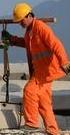boots: (18, 123, 40, 129)
gloves: (0, 28, 10, 39), (0, 40, 7, 48)
hard-hat: (12, 1, 32, 21)
ppe-suit: (0, 21, 35, 114)
